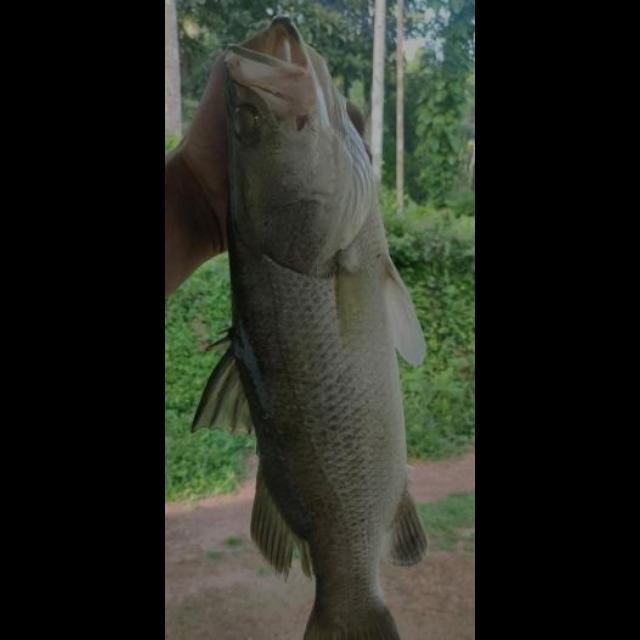Seabass: (189, 15, 433, 640)
